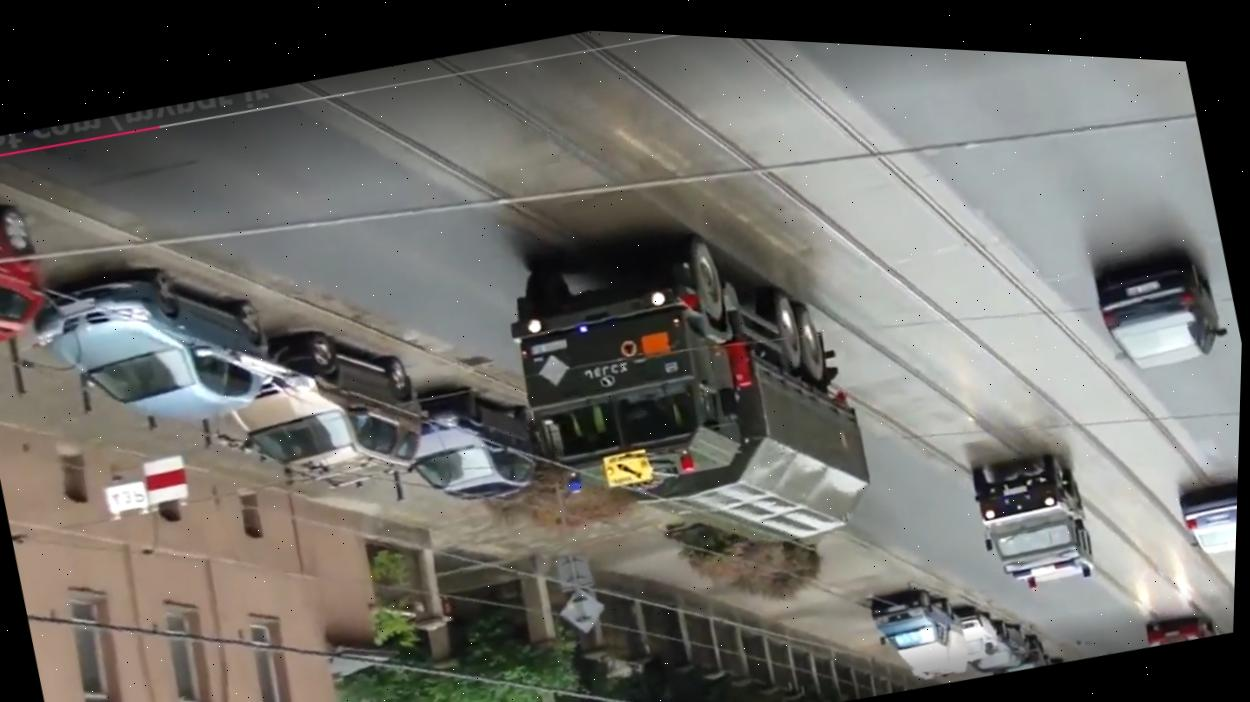armored_car: (474, 184, 901, 606)
